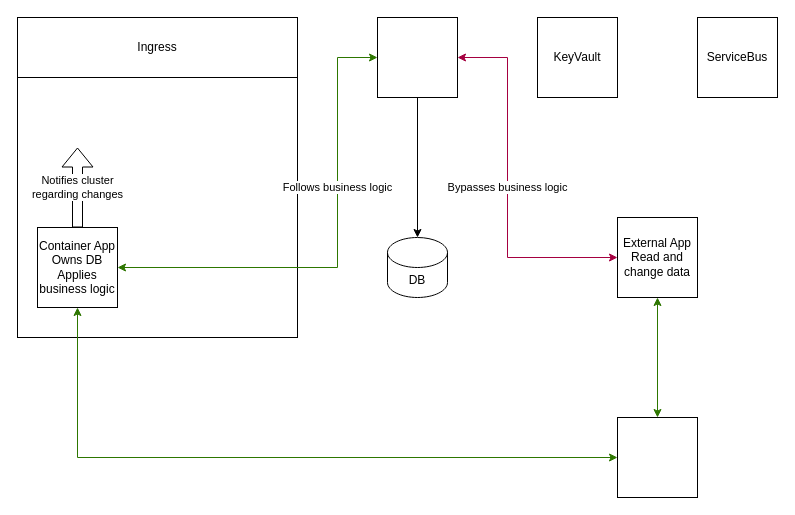
Image size: 795x515. Some labels were removed from this diagram. Each missing label, with the box of its shape:
Cluster: (16, 16, 298, 338)
MS SQL: (376, 16, 458, 98)
Redis / NATS / ServiceBus: (616, 416, 698, 498)
